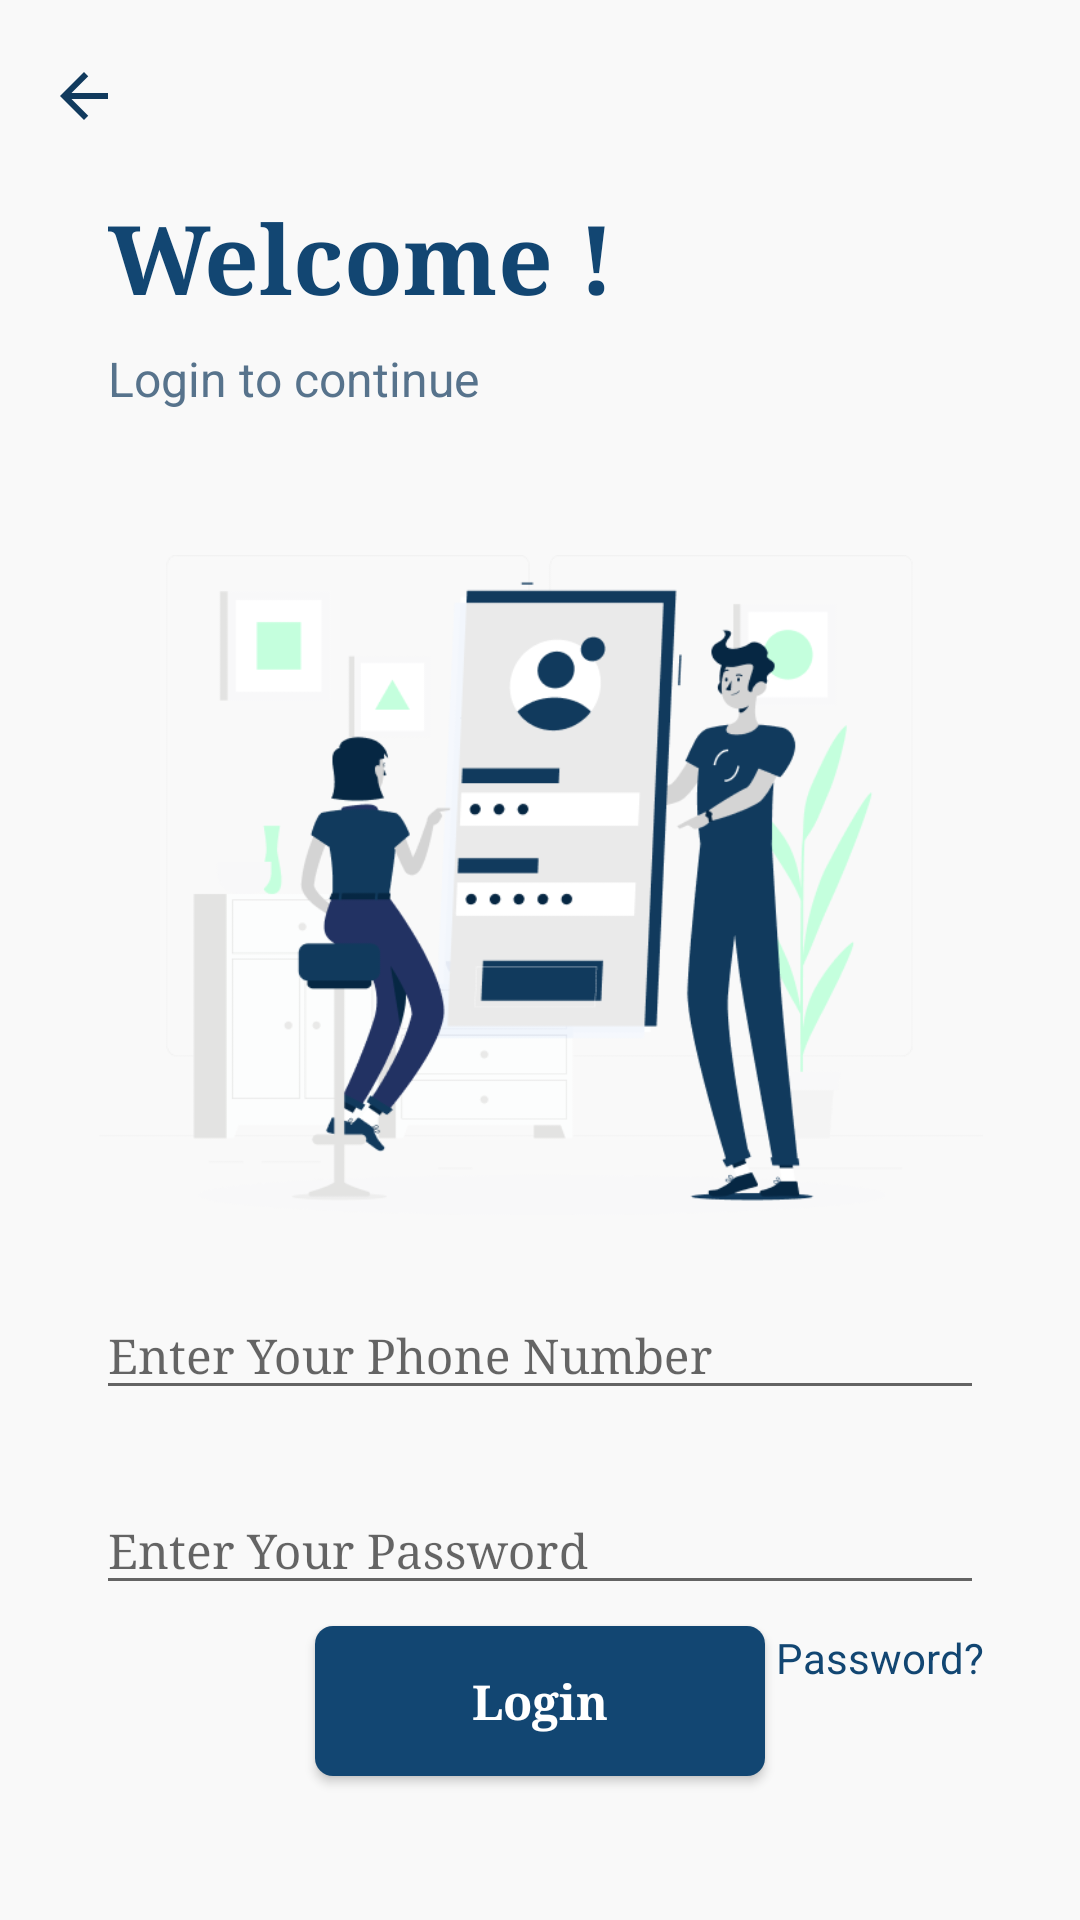

Screen size 1080 × 1920. Icon name, then its box in pixels as region(x1, y1, x2, y2):
arrow: region(60, 72, 108, 120)
